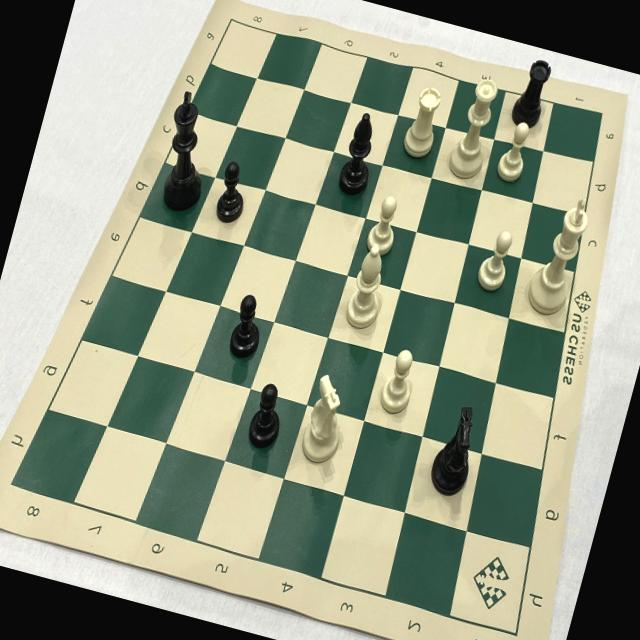black-bishop: (331, 105, 386, 204)
black-king: (144, 83, 228, 220)
black-knight: (415, 396, 490, 508)
black-pawn: (240, 372, 294, 456), (220, 285, 272, 367), (208, 152, 256, 230)
black-rook: (502, 50, 562, 140)
white-bishop: (337, 238, 402, 338)
white-king: (518, 184, 600, 324)
white-knight: (290, 364, 360, 474)
white-pawn: (484, 112, 544, 194), (372, 340, 427, 428), (470, 222, 520, 298), (360, 186, 411, 260)
white-queen: (440, 66, 508, 188)
white-rook: (394, 78, 452, 166)
